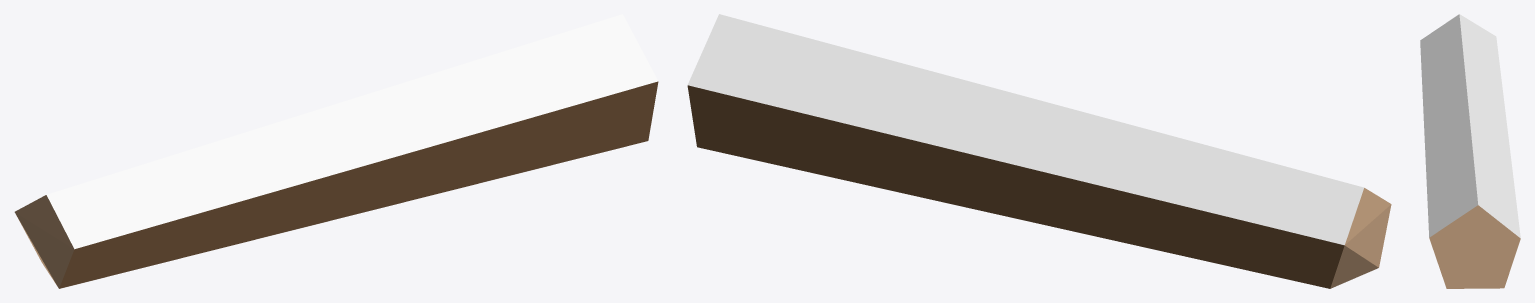
File: Pine_Log_Snow_02_LOD.fbx
3 views of the same model, side by side, from view 1: azimuth 30°, elevation 25°; view 2: azimuth 150°, elevation 25°; view 3: azimuth 270°, elevation 25° (orthographic). The views are drawn at different scales.
Visible parts, largest first — view 1: Pine_Log_Snow_02_LOD0; view 2: Pine_Log_Snow_02_LOD0; view 3: Pine_Log_Snow_02_LOD0.
Part boxes in pixels (<box>): Pine_Log_Snow_02_LOD0: <box>14,14,658,288</box>; Pine_Log_Snow_02_LOD0: <box>687,14,1391,288</box>; Pine_Log_Snow_02_LOD0: <box>1420,14,1520,288</box>.
Size of what is drawn, in the model's own units: 331 by 59.08 by 65.36.
